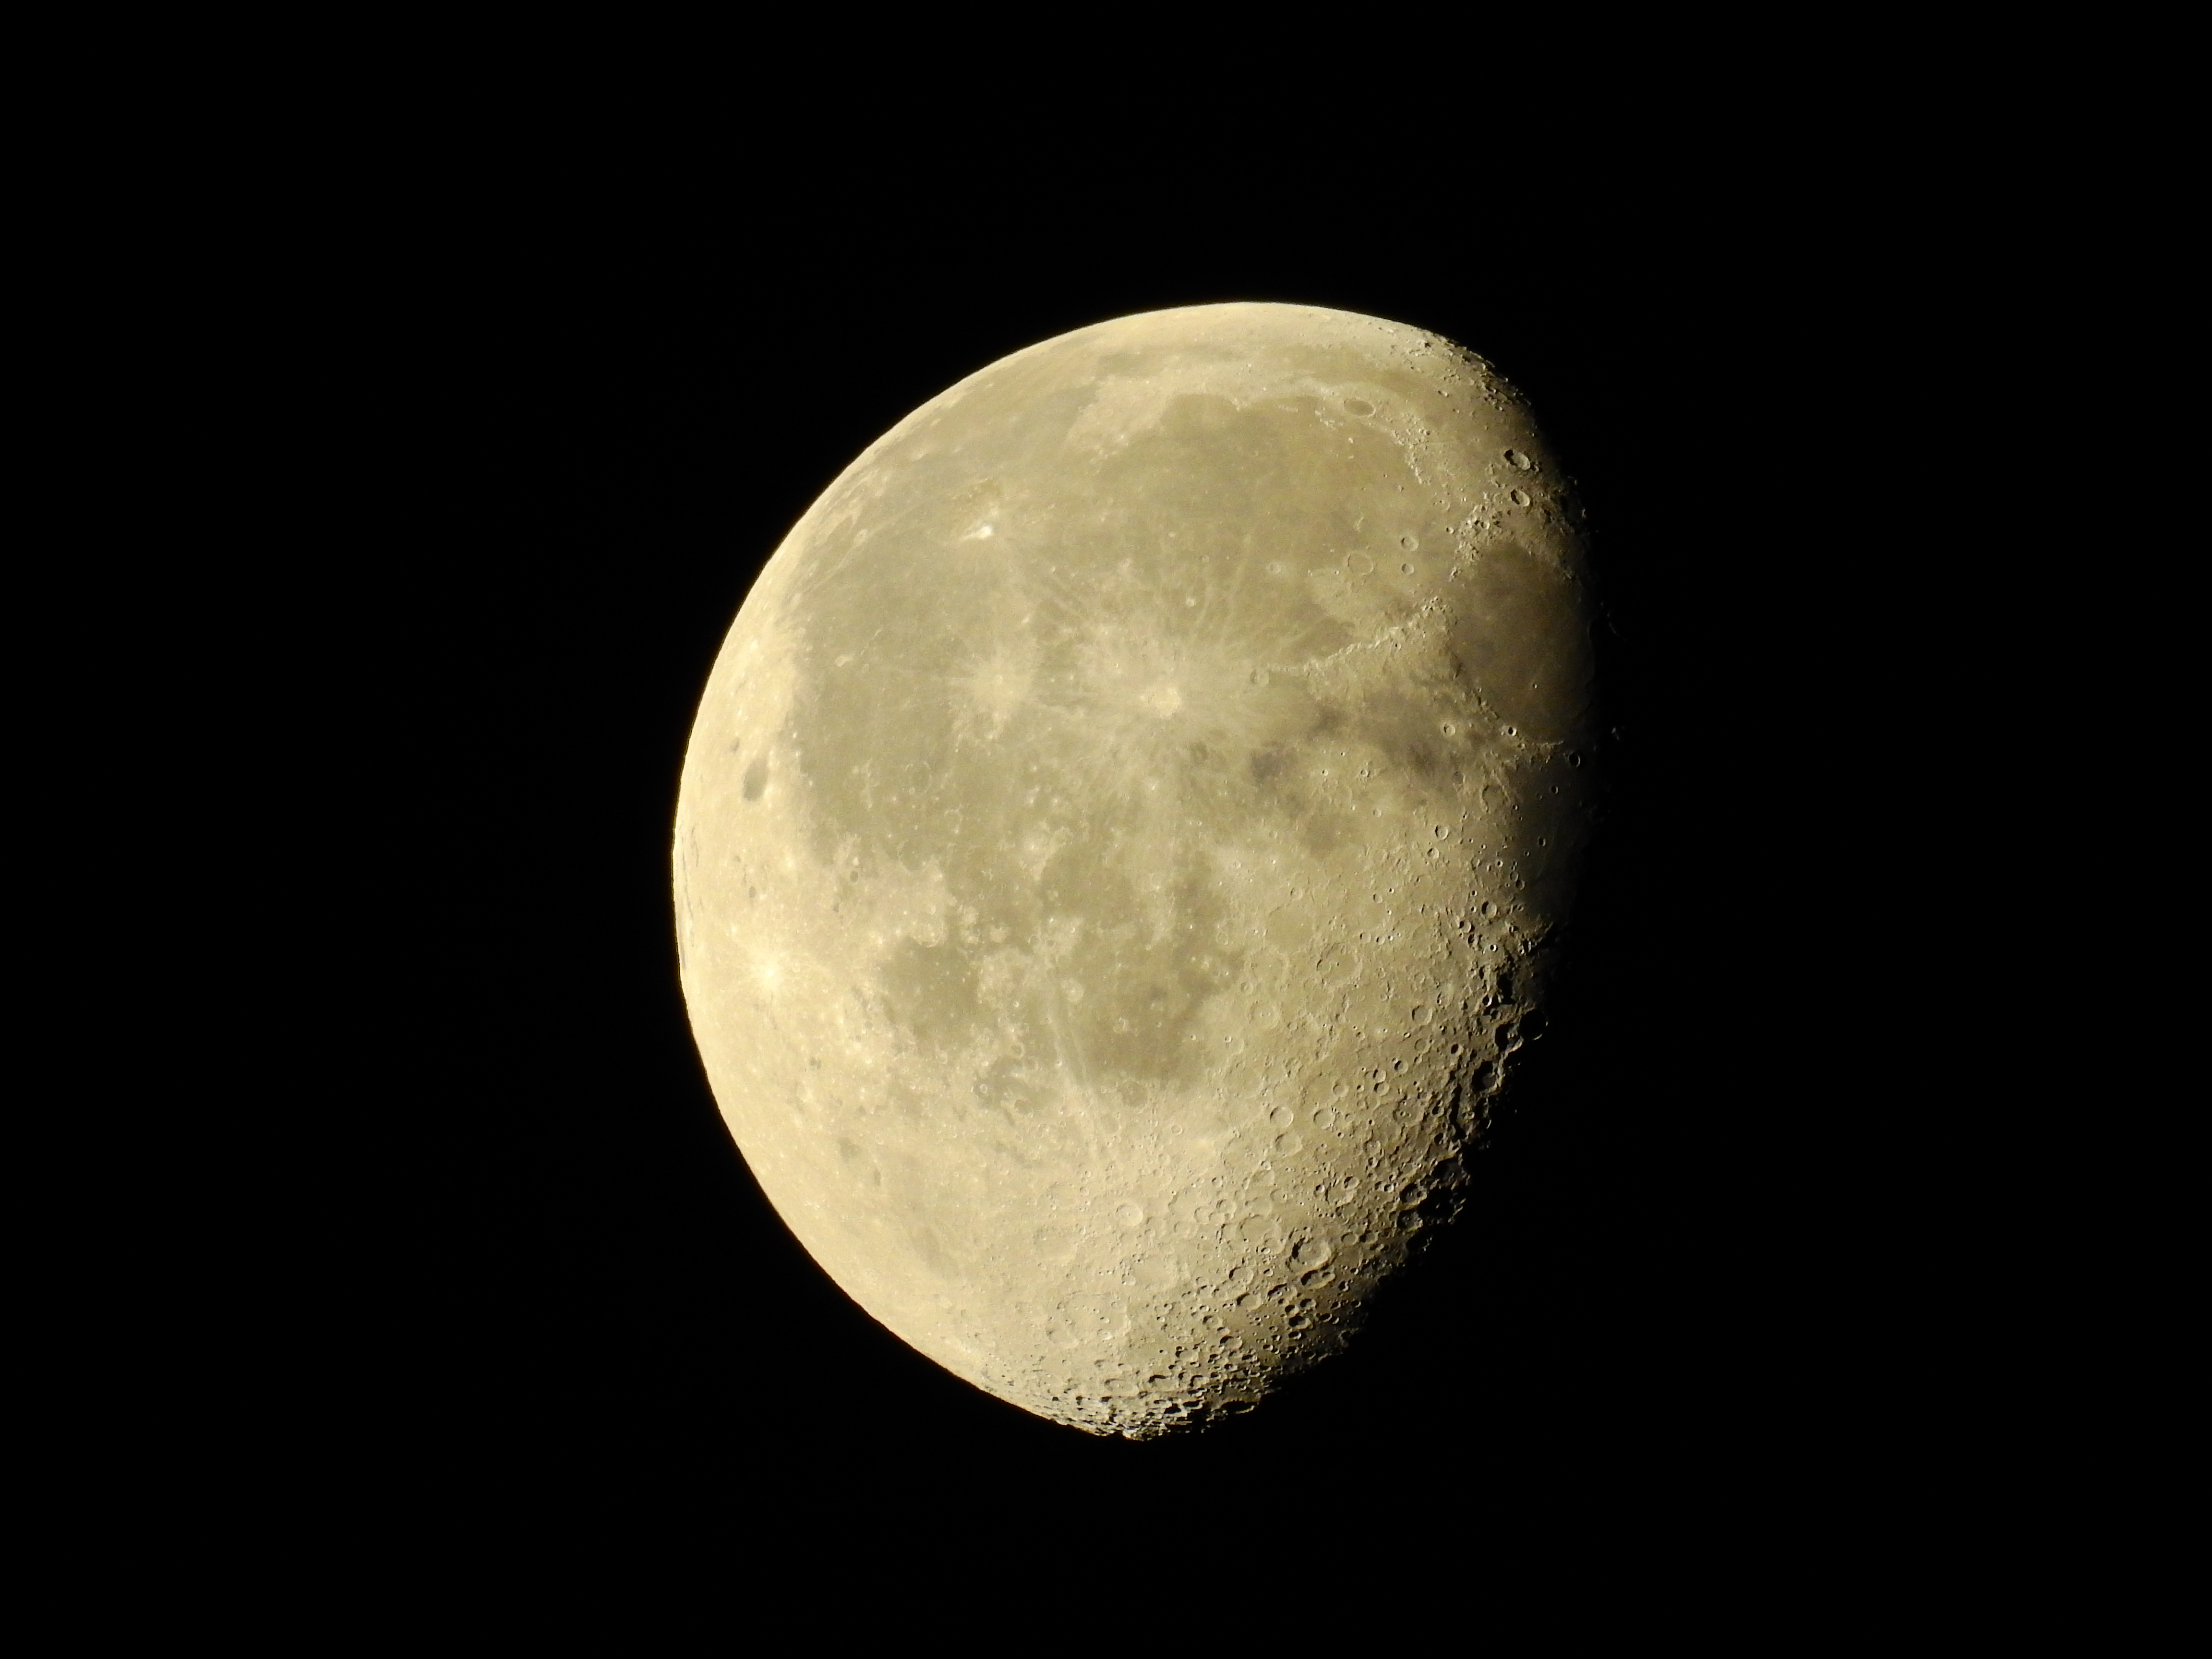crater: (1082, 591, 1237, 793), (930, 620, 1057, 756), (711, 882, 812, 1042), (1076, 336, 1270, 403), (721, 732, 810, 824), (1099, 1141, 1169, 1246), (989, 1208, 1089, 1276), (1456, 427, 1538, 486), (1310, 932, 1374, 997), (1245, 626, 1305, 695), (1127, 960, 1188, 1025), (1329, 526, 1386, 592), (1313, 382, 1385, 432), (954, 514, 1015, 566), (1287, 1225, 1338, 1272), (1517, 657, 1562, 709), (1252, 545, 1298, 592), (1254, 1096, 1306, 1134), (1533, 817, 1569, 870), (1050, 972, 1096, 1012), (1428, 711, 1468, 753), (1561, 735, 1599, 779), (937, 425, 972, 469), (1493, 713, 1529, 753), (1393, 525, 1430, 559), (1501, 483, 1533, 518), (1428, 814, 1458, 847), (1360, 800, 1393, 828), (1420, 382, 1458, 404), (1393, 558, 1426, 584), (1439, 516, 1460, 544), (841, 868, 864, 889), (1376, 465, 1393, 488), (1313, 762, 1338, 777), (1181, 920, 1205, 936)
